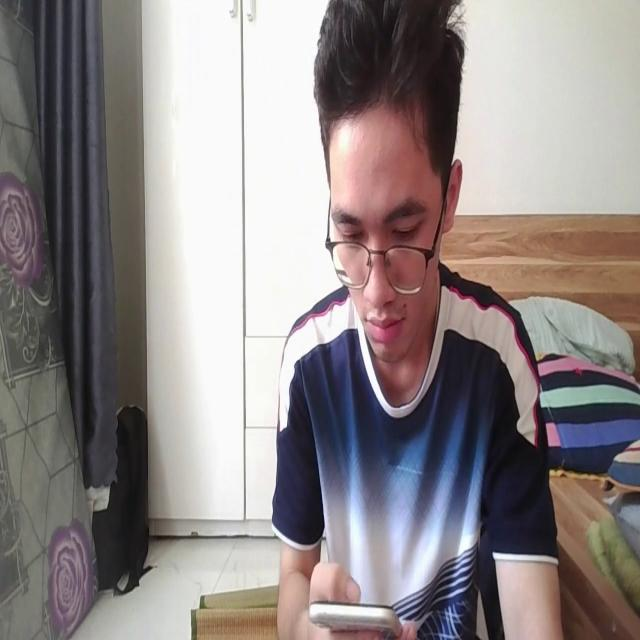phone: (304, 590, 400, 640)
student: (260, 0, 565, 640)
